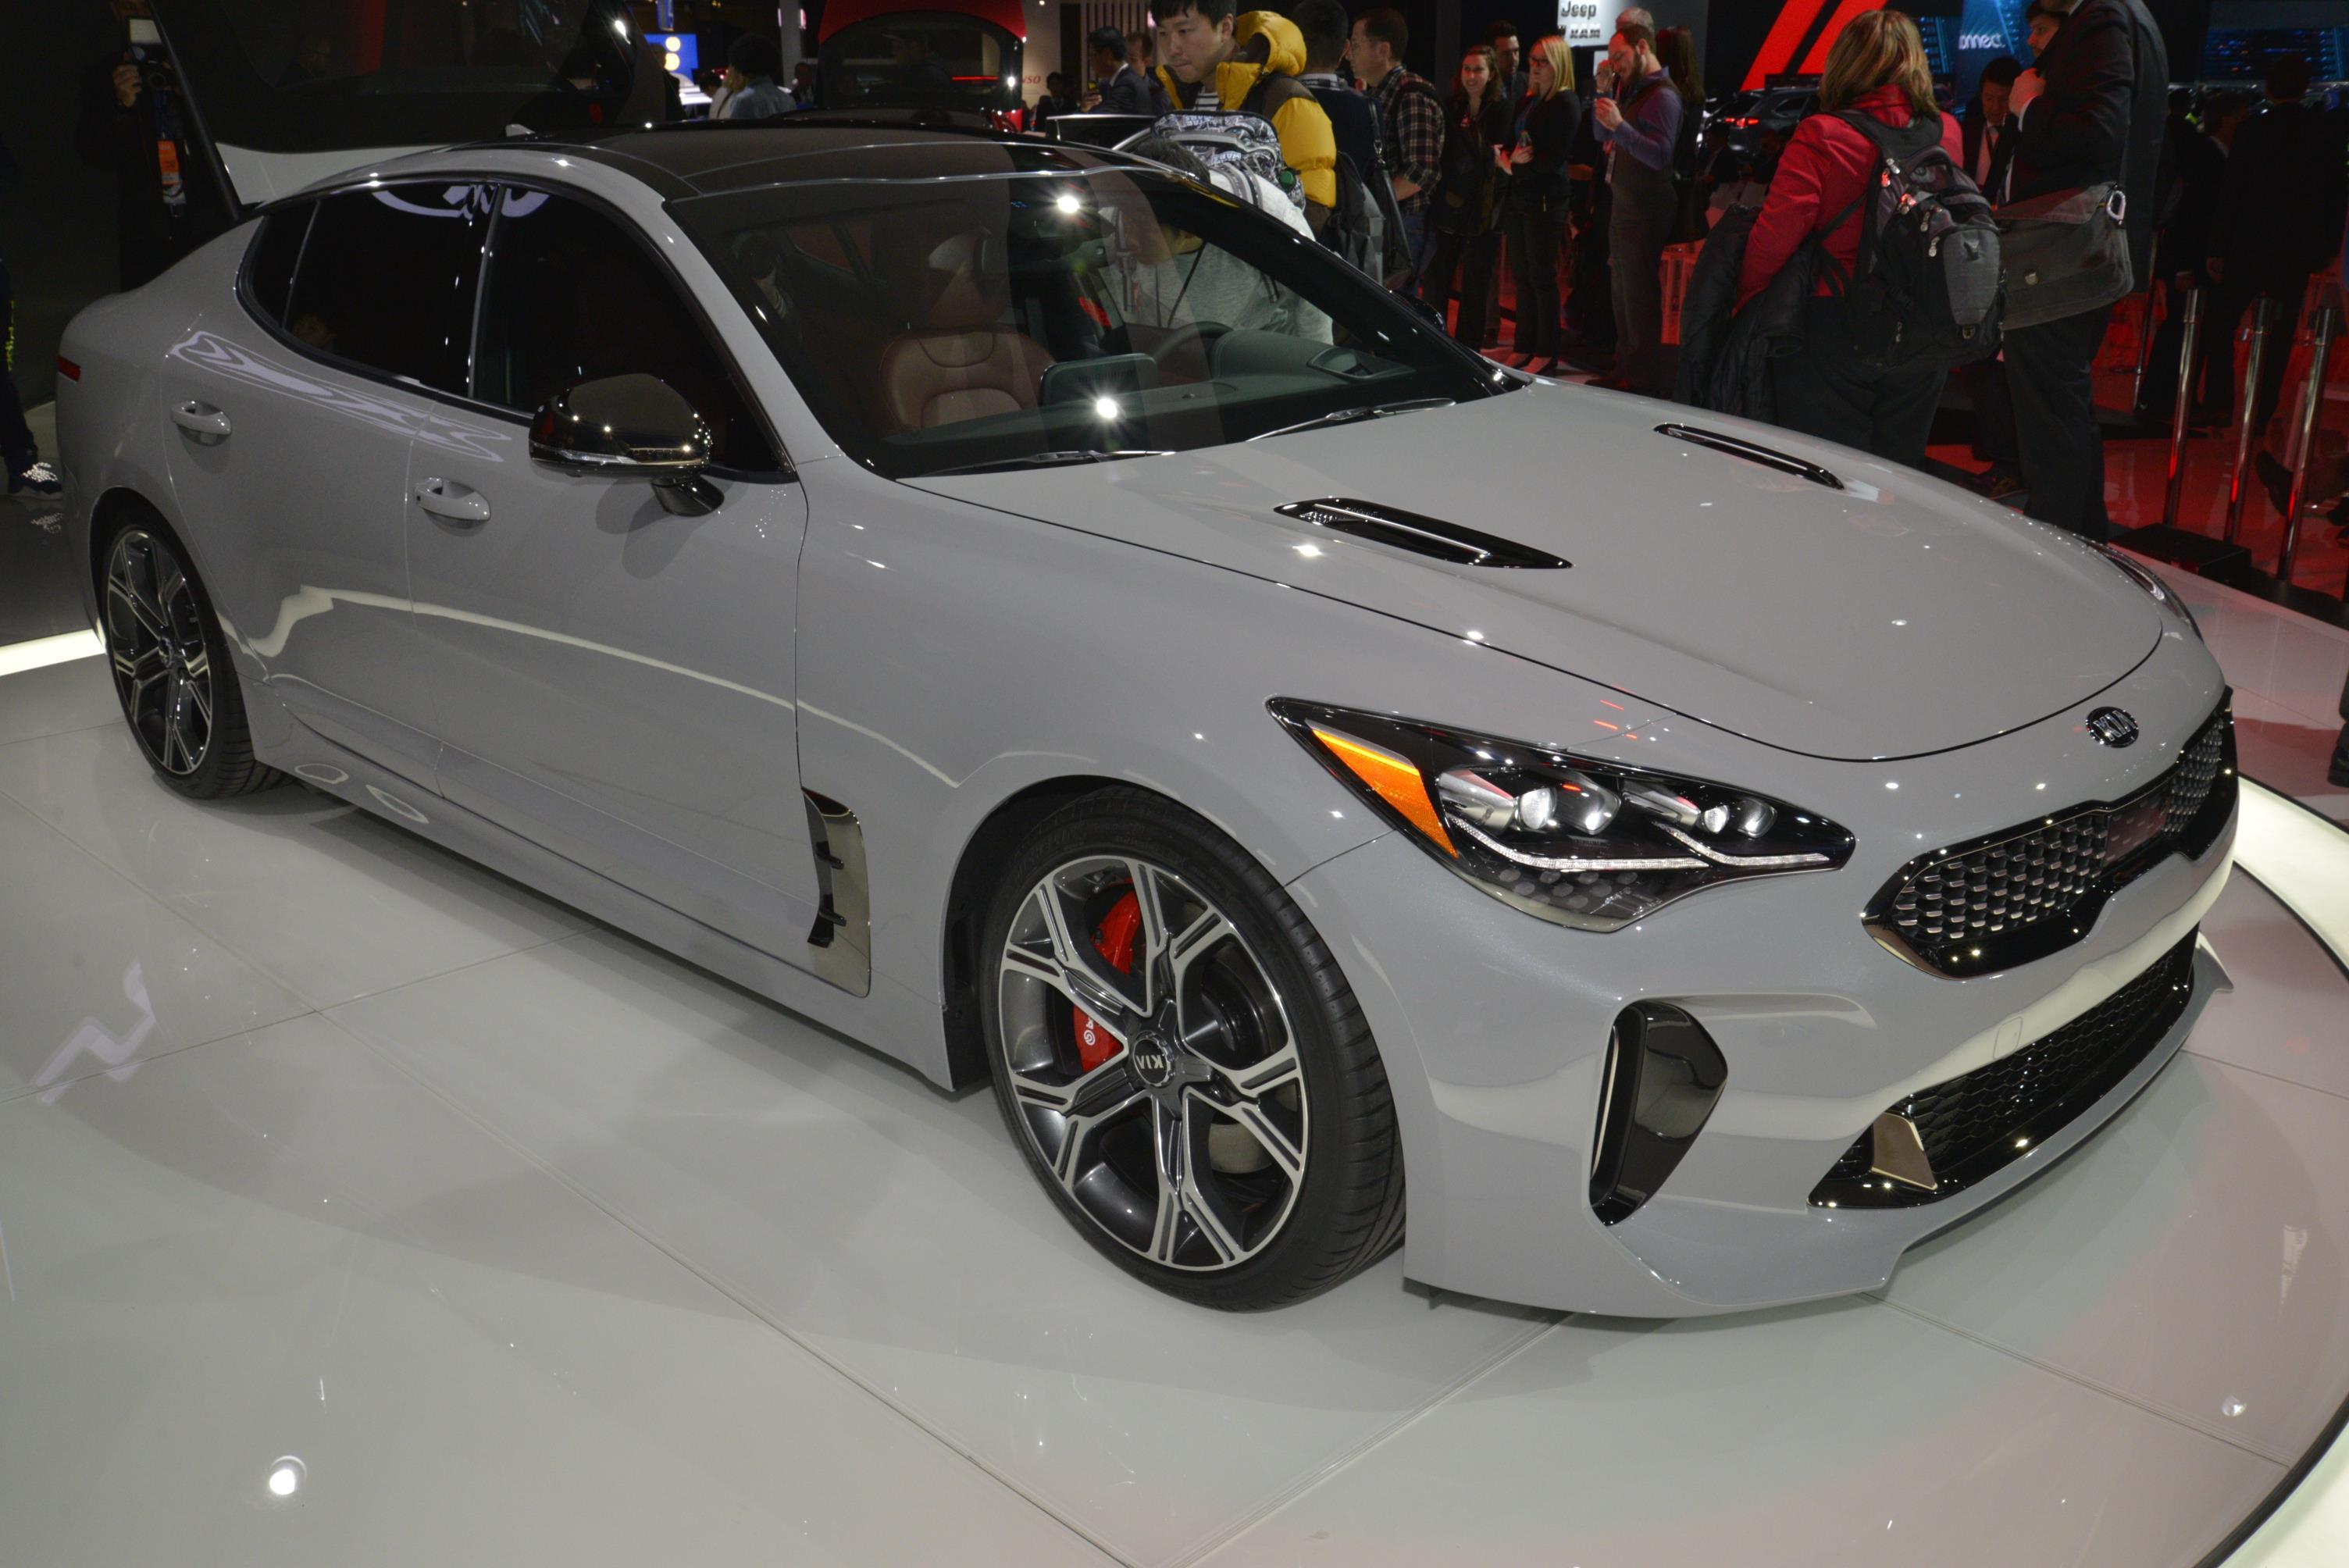Car: (33, 2, 2291, 1361)
